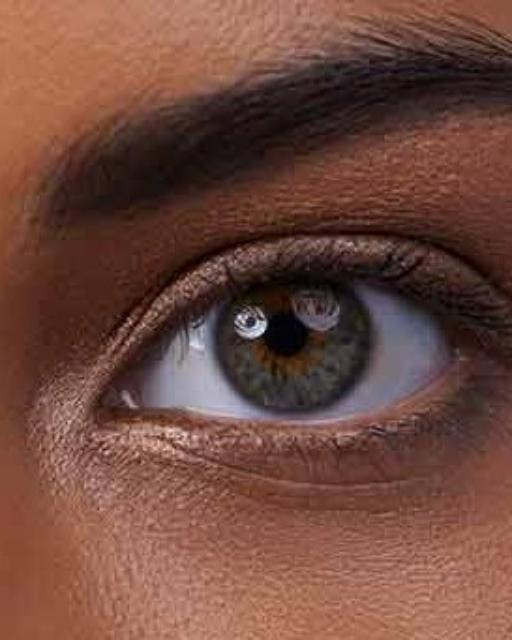eye: (212, 262, 374, 416)
